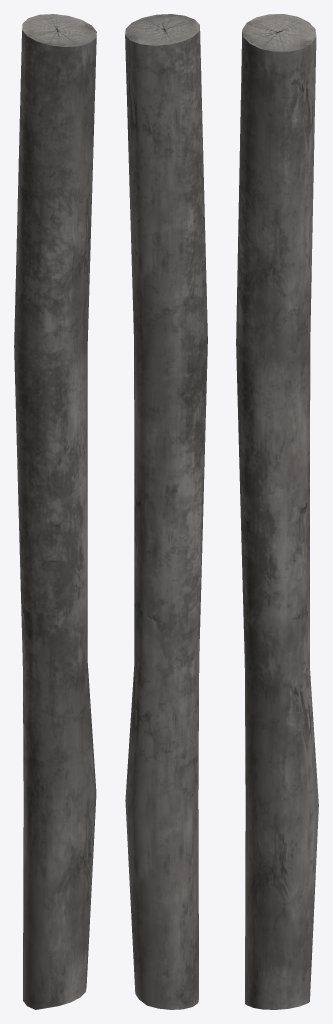
The model's file is SM_SmallPosts_1.fbx.
3 views of the same model, side by side, from view 1: azimuth 30°, elevation 25°; view 2: azimuth 210°, elevation 25°; view 3: azimuth 330°, elevation 25° (orthographic).
Visible parts, largest first — view 1: SM_SmallPosts_1_LOD0; view 2: SM_SmallPosts_1_LOD0; view 3: SM_SmallPosts_1_LOD0.
Part boxes in pixels (<box>): SM_SmallPosts_1_LOD0: <box>14,14,96,1009</box>; SM_SmallPosts_1_LOD0: <box>125,14,207,1009</box>; SM_SmallPosts_1_LOD0: <box>236,14,318,1009</box>.
Size of the model in its own units: 14.73 by 13.57 by 187.
